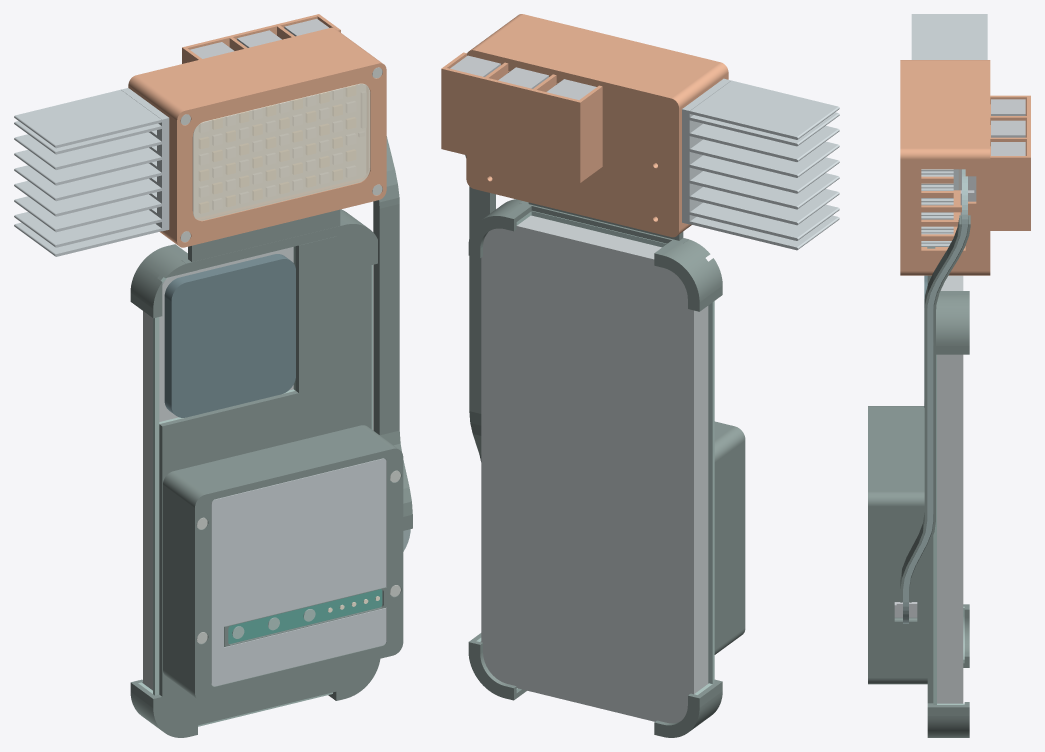
File: filllight_battery.glb
3 views of the same model, side by side, from view 1: azimuth 30°, elevation 25°; view 2: azimuth 150°, elevation 25°; view 3: azimuth 270°, elevation 25° (orthographic). The views are drawn at different scales.
Parts seen in each view (by area): view 1: frame, spreader, back_cover, sink, camera_dummy, diffuser, head_bezel, head_shell, side_rail, phone, liner, panel_flex; view 2: phone, head_shell, sink, frame, back_cover, liner, side_rail, head_bezel, head_power_lock3, head_power_lock2; view 3: head_shell, back_cover, phone, frame, sink, side_rail, trunk, head_bezel, liner, head_power_lock2, head_power_lock1, head_power_lock3.
Boxes of the visible parts, x1,y1,x2,y2 form: frame: (130, 209, 380, 737); spreader: (211, 458, 386, 686); back_cover: (163, 425, 403, 701); sink: (14, 88, 169, 256); camera_dummy: (164, 254, 295, 417); diffuser: (192, 83, 370, 220); head_bezel: (174, 61, 386, 247); head_shell: (128, 14, 379, 243); side_rail: (373, 136, 412, 530); phone: (143, 247, 293, 690); liner: (138, 246, 372, 726); panel_flex: (228, 589, 382, 643); phone: (481, 215, 708, 723); head_shell: (441, 16, 725, 237); sink: (682, 78, 839, 250); frame: (468, 199, 722, 737); back_cover: (714, 421, 745, 654); liner: (476, 211, 714, 694); side_rail: (465, 155, 495, 461); head_bezel: (516, 14, 728, 79); head_power_lock3: (450, 55, 500, 76); head_power_lock2: (498, 67, 548, 88); head_shell: (905, 60, 1030, 275); back_cover: (868, 406, 927, 684); phone: (937, 275, 963, 703); frame: (894, 247, 969, 737); sink: (911, 14, 987, 246); side_rail: (900, 215, 970, 602); trunk: (903, 169, 967, 623); head_bezel: (900, 60, 905, 275); liner: (933, 354, 964, 704); head_power_lock2: (991, 120, 1025, 137); head_power_lock1: (991, 99, 1025, 115); head_power_lock3: (991, 142, 1025, 155).
Size of the model in its own units: 0.1185 by 0.2066 by 0.0512.
